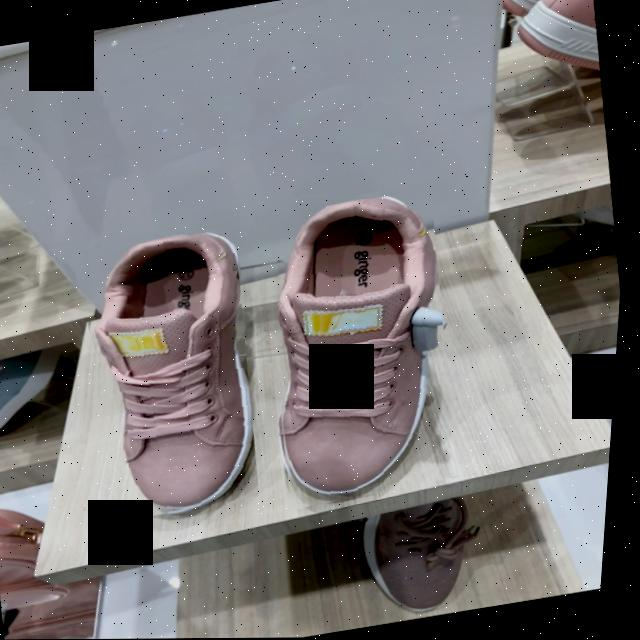shoe: (281, 198, 448, 502), (95, 233, 254, 511)
